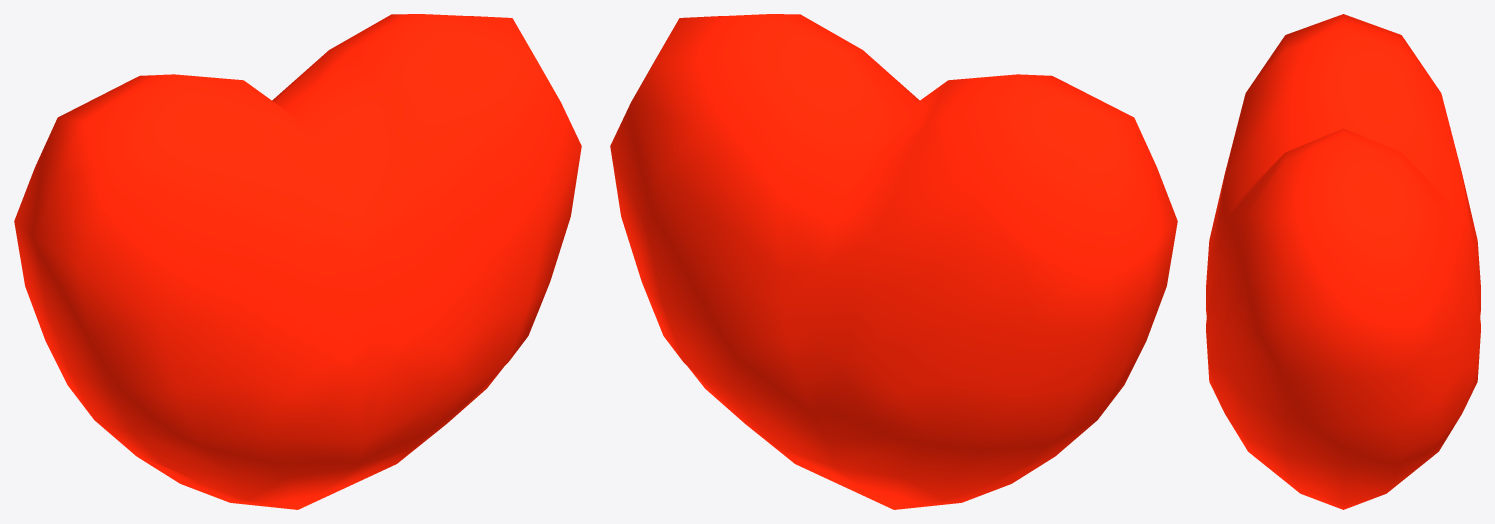
Rendered from red_hearth.glb.
3 views of the same model, side by side, from view 1: azimuth 30°, elevation 25°; view 2: azimuth 150°, elevation 25°; view 3: azimuth 270°, elevation 25° (orthographic). The views are drawn at different scales.
Visible parts, largest first — view 1: Red_Hearth; view 2: Red_Hearth; view 3: Red_Hearth.
Boxes of the visible parts, x1,y1,x2,y2 form: Red_Hearth: (14,14,581,509); Red_Hearth: (610,14,1177,509); Red_Hearth: (1206,14,1480,509).
Size of the model in its own units: 0.6771 by 0.5736 by 0.3424.
